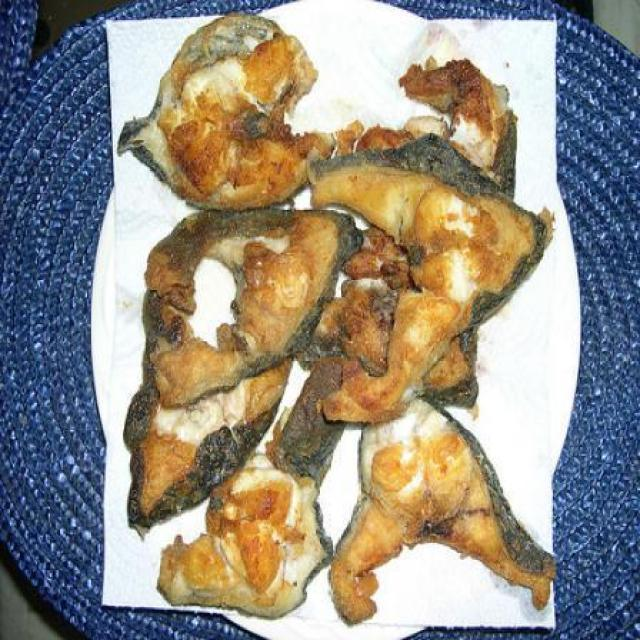Fish: (86, 14, 574, 636)
